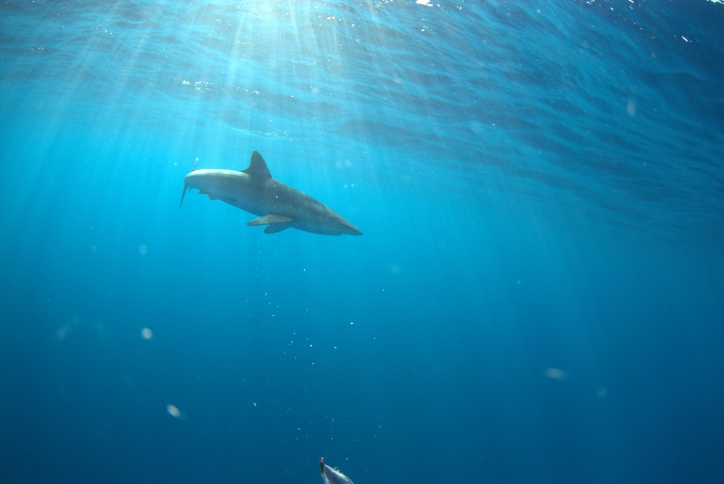Sedoso: (164, 142, 370, 245)
